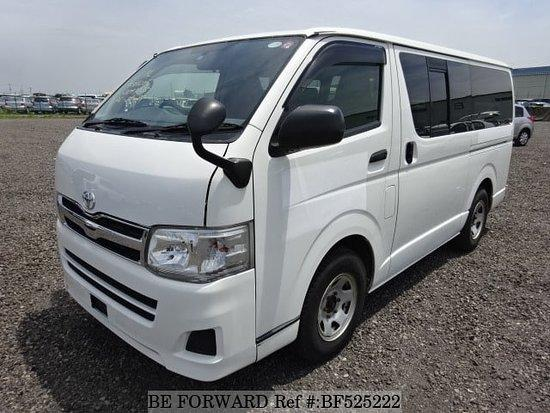van: (53, 25, 514, 385)
